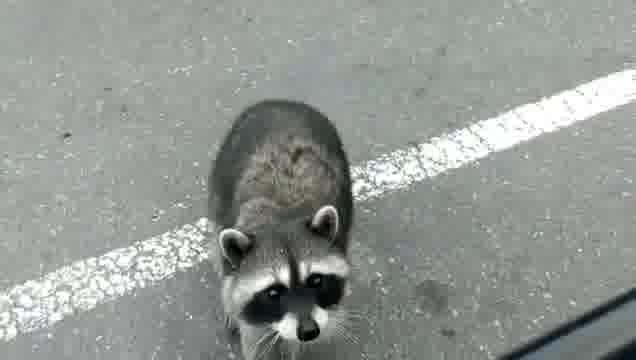raccoon: (200, 93, 372, 360)
